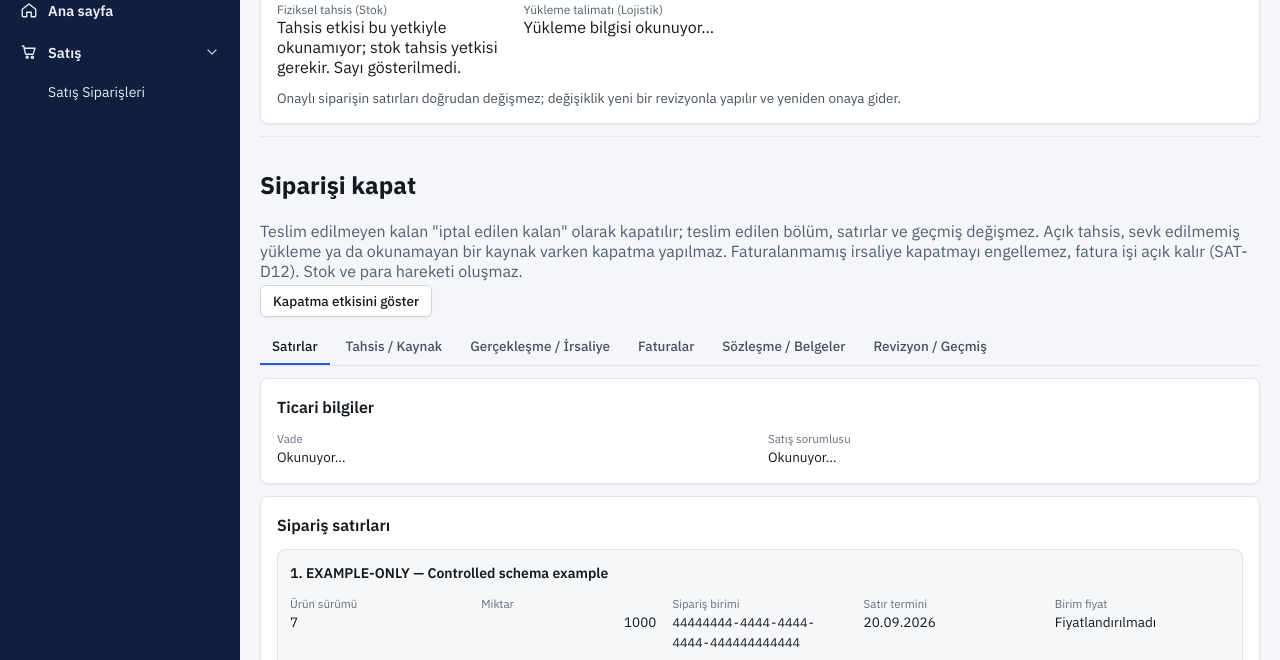
Test: S-04 force-close of an approved order (No 30, SAT-D12) › never shows an unreadable owner as 0 and offers no command
The image size is (1280, 660).
(page scrolled)
Click the button with test id "sales-force-close-open" at {"x": 346, "y": 301}, box left=260, top=285, right=432, bottom=317
(page scrolled)
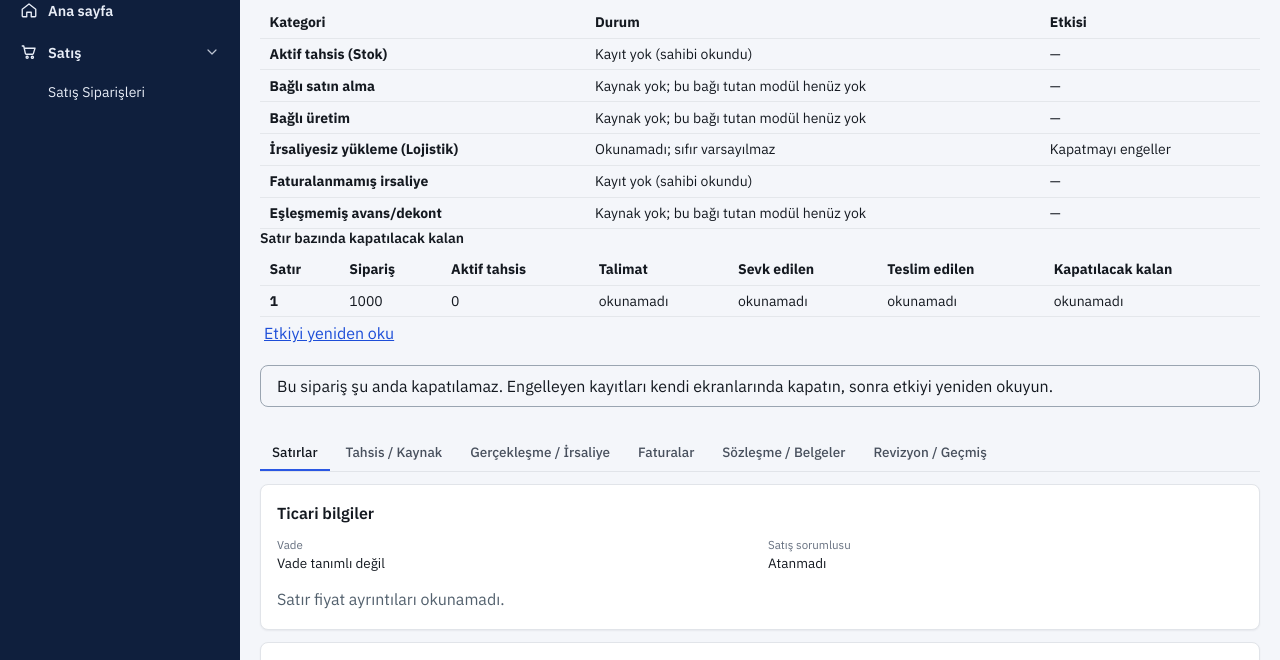
expect the message with test id "sales-force-close-blocked" is shown: met, box left=260, top=365, right=1260, bottom=406
expect the cell with test id "sales-force-close-line-1-remainder" reads "okunamadı": met, box left=1054, top=292, right=1123, bottom=310
